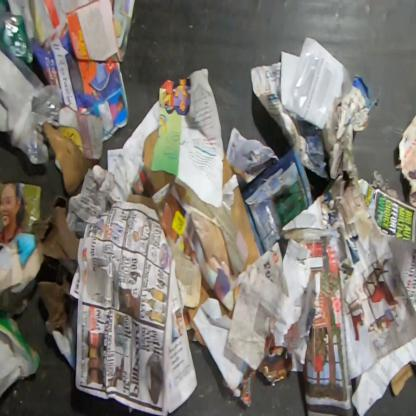cardboard: (190, 148, 261, 282), (31, 195, 80, 335), (43, 119, 94, 199), (142, 127, 177, 192), (390, 363, 415, 396)
soft_plastic: (0, 39, 65, 168), (0, 0, 35, 68)
